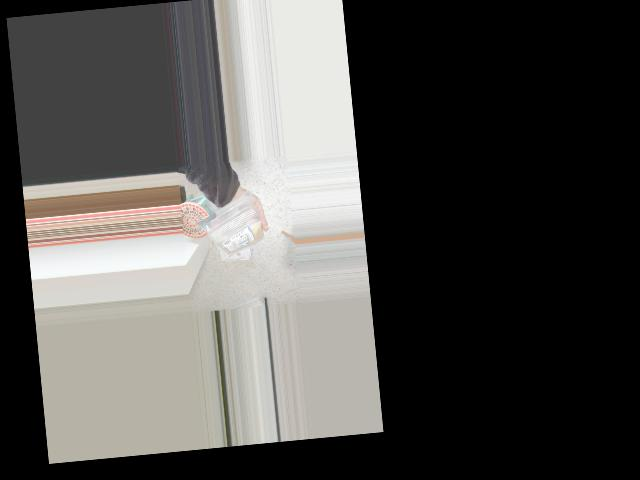cheese: (191, 189, 264, 269)
